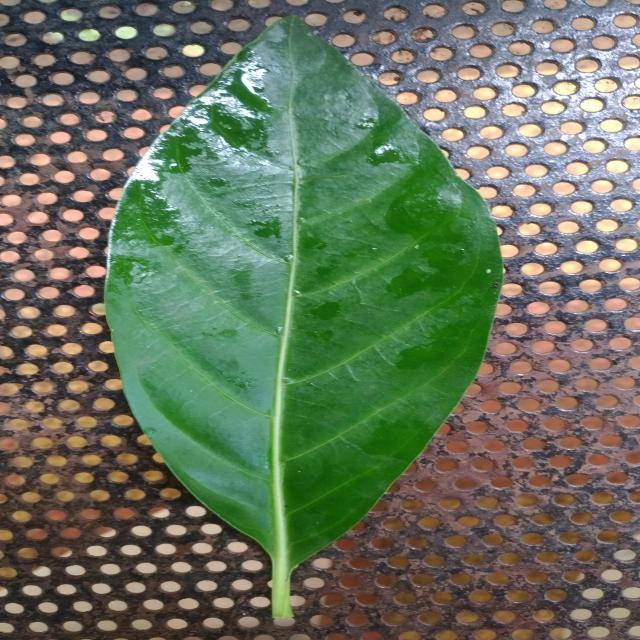nooni: (104, 16, 502, 619)
